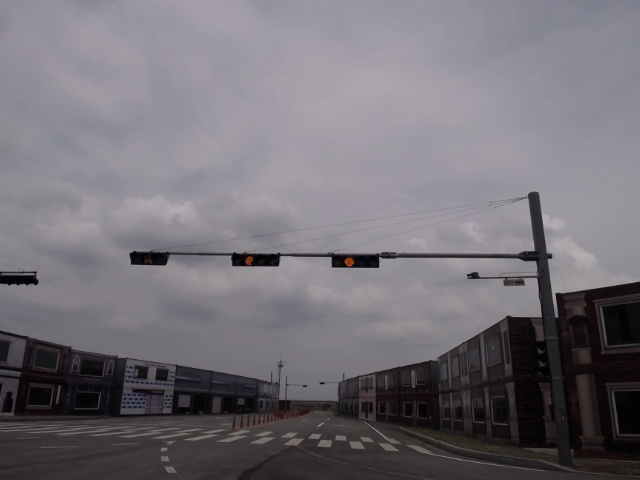orange_4: (331, 252, 382, 271), (230, 251, 281, 269)
